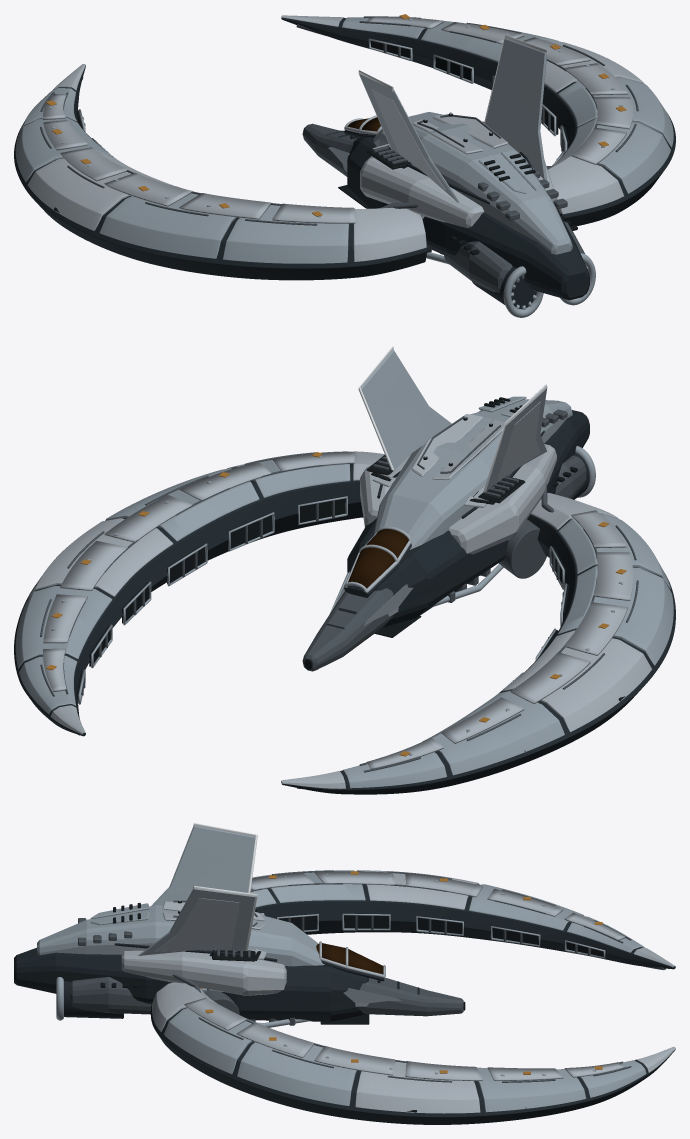
Rendered from goliath.glb.
3 renders of one model, top to bottom at view 1: azimuth 30°, elevation 25°; view 2: azimuth 150°, elevation 25°; view 3: azimuth 270°, elevation 25°, orthographic. The views are drawn at different scales.
Parts seen in each view (by area): view 1: goliath.001; view 2: goliath.001; view 3: goliath.001.
Part boxes in pixels (left/top/right/bottom): goliath.001: left=14, top=14, right=675, bottom=317; goliath.001: left=14, top=346, right=675, bottom=794; goliath.001: left=14, top=823, right=675, bottom=1124.
Size of the model in its own units: 4.38 by 1.51 by 5.25.
10 materials, 10 textured.
